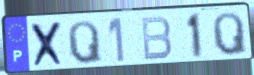1: (186, 10, 206, 61), (105, 16, 125, 65)
B: (139, 15, 174, 63)
Q: (66, 19, 105, 66), (211, 11, 250, 57)
X: (29, 20, 67, 70)
